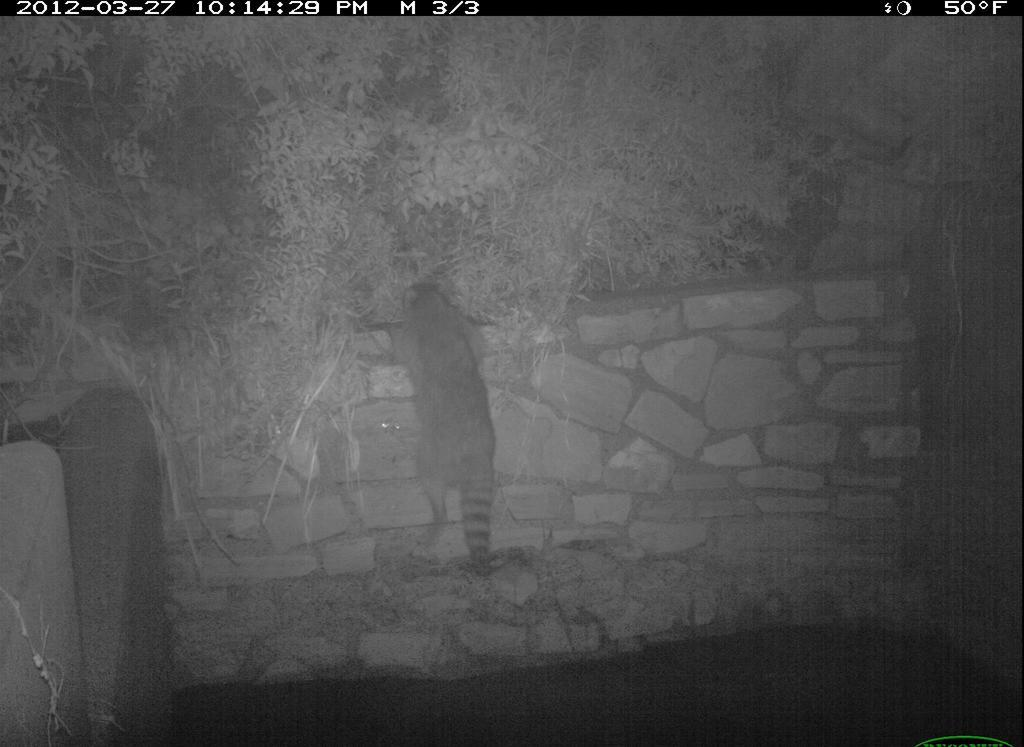raccoon: (370, 277, 502, 571)
